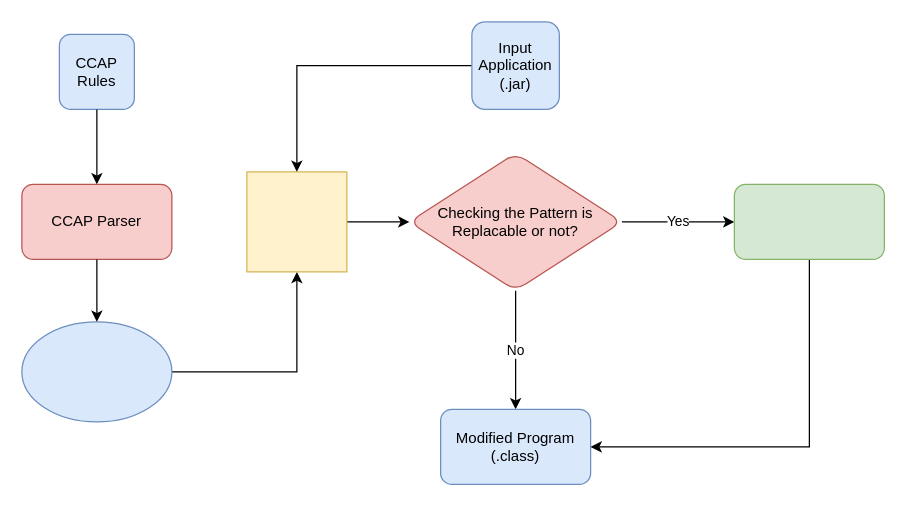
Some shapes in this 906 by 506 pixel diagram are drawn without their labels. The shapes that lost their labels are listed below. From the top down, each one's centre as x and y in pixels, then its label:
At [296,221]: "Pattern Matching Check".
At [808,221]: "Replacement with optimized operations".
At [96,371]: "CCAP-Map".
